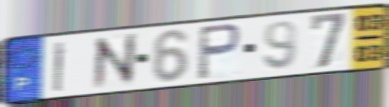6: (149, 26, 191, 86)
7: (308, 11, 348, 71)
9: (261, 20, 300, 72)
I: (52, 40, 68, 94)
N: (92, 31, 139, 92)
P: (196, 21, 244, 82)
